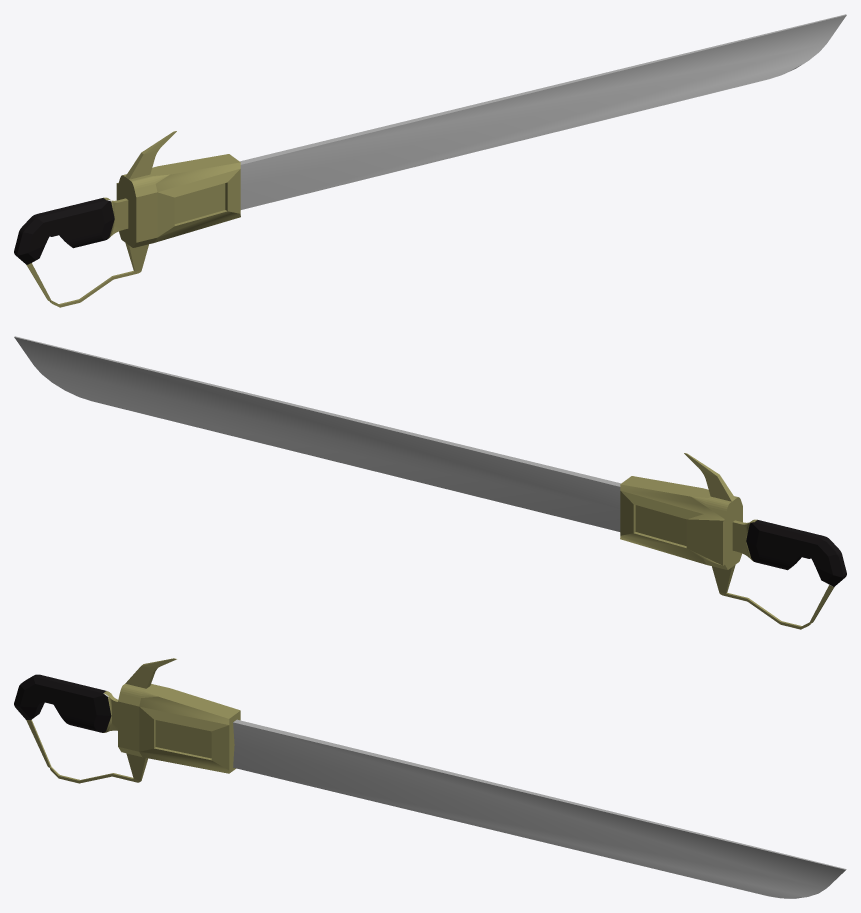
The model's file is sword.glb.
3 renders of one model, top to bottom at view 1: azimuth 30°, elevation 25°; view 2: azimuth 150°, elevation 25°; view 3: azimuth 330°, elevation 25°, orthographic.
Visible parts, largest first — view 1: Cube.003; view 2: Cube.003; view 3: Cube.003.
Boxes of the visible parts, x1,y1,x2,y2 form: Cube.003: [14, 14, 846, 307]; Cube.003: [14, 336, 846, 629]; Cube.003: [14, 658, 846, 898].
Bounding box in the file's own units: 0.7804 × 0.1324 × 0.0339.
